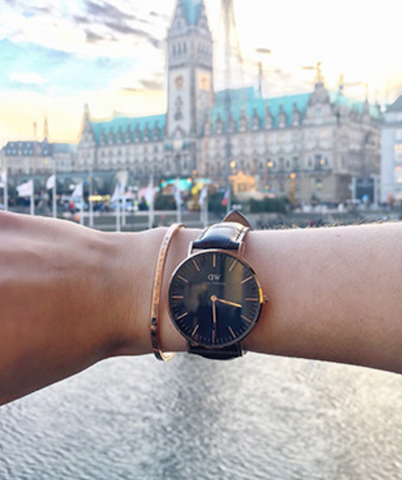watch: (157, 200, 270, 381)
